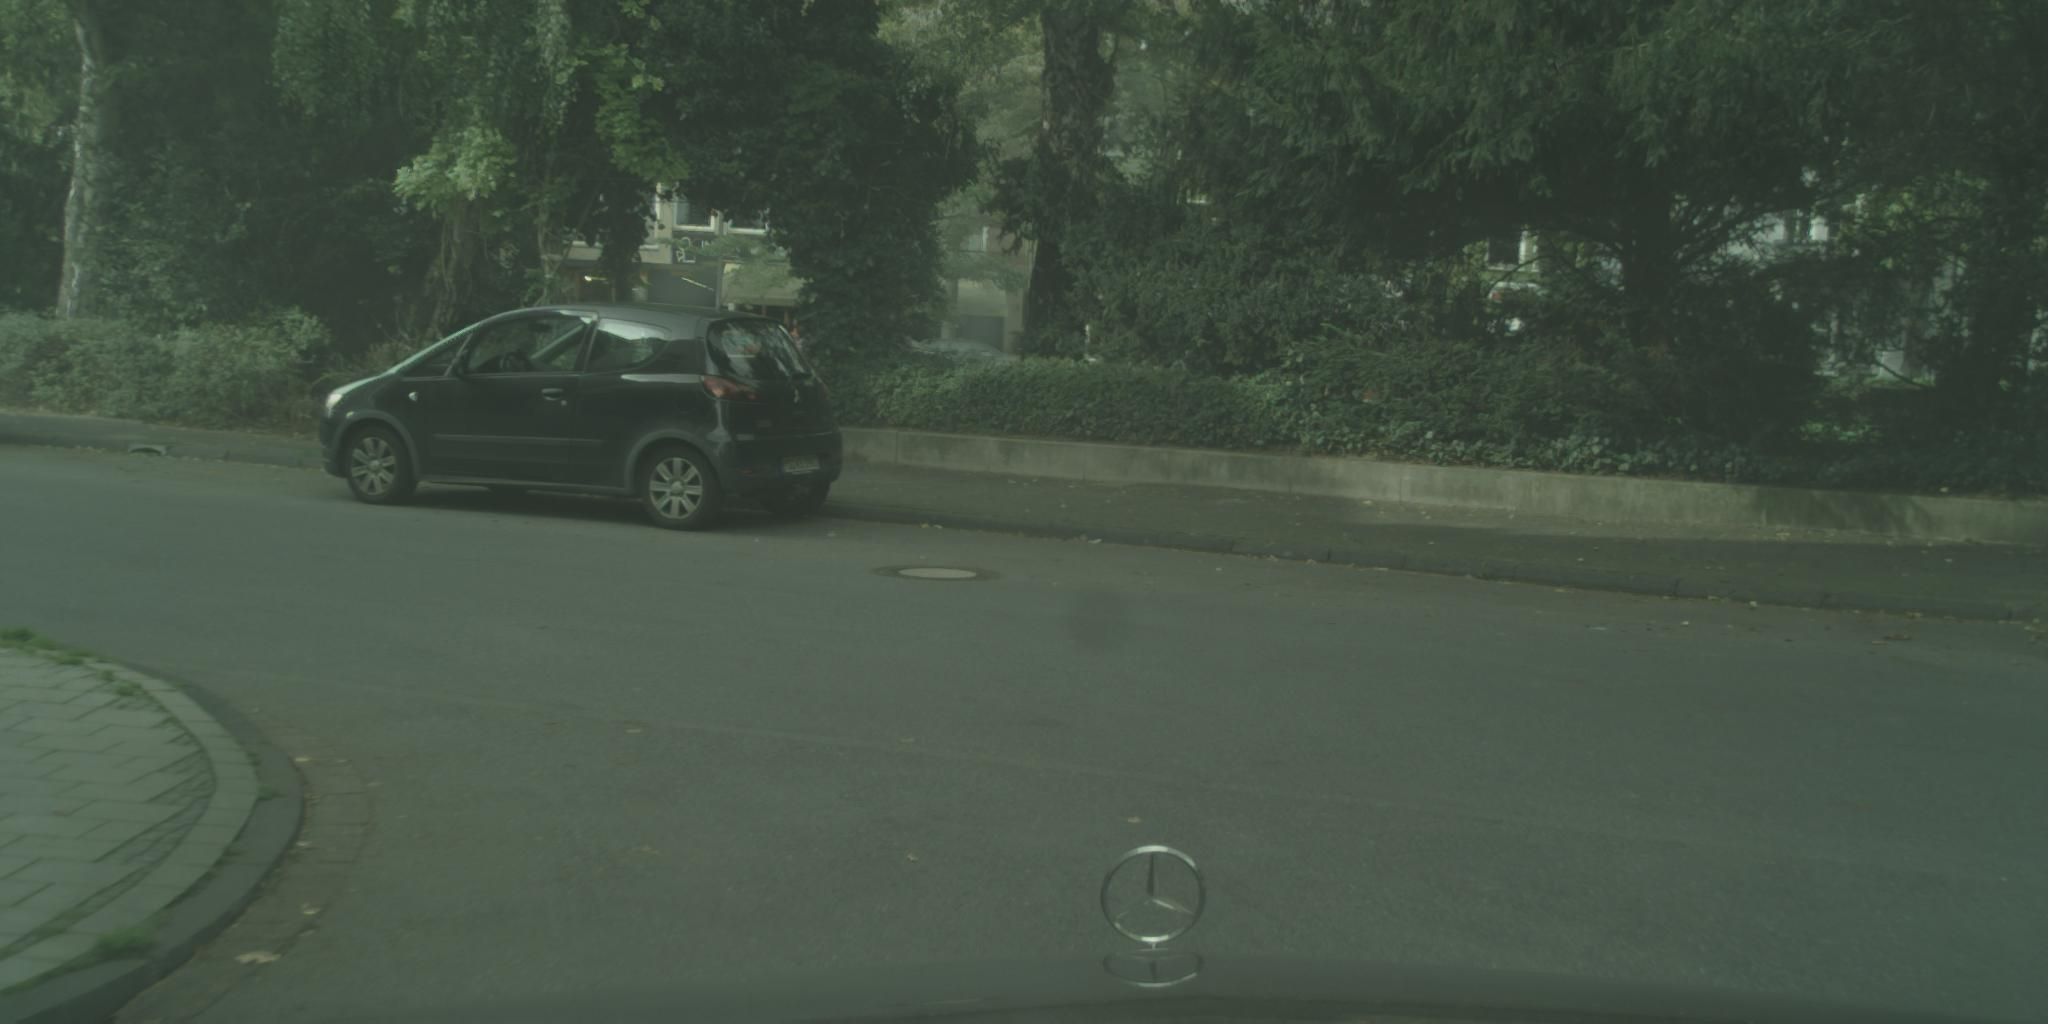car: (320, 302, 842, 534), (909, 340, 1017, 364)
